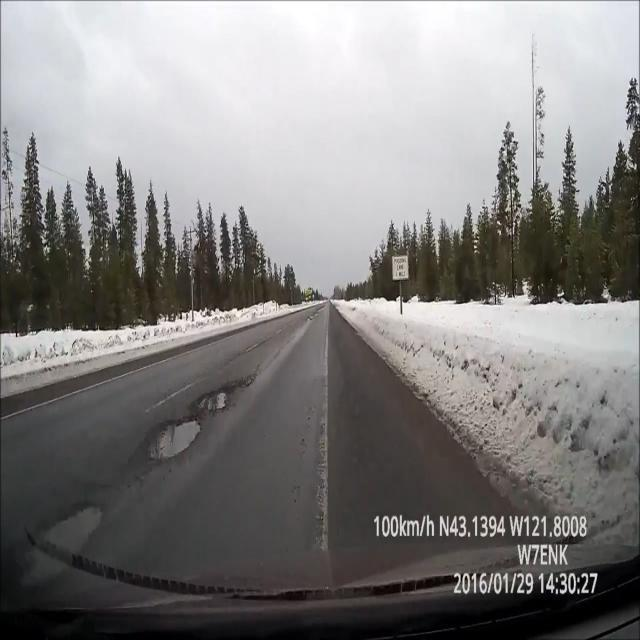Pothole: (20, 498, 112, 585), (131, 415, 205, 469), (190, 367, 260, 417)
